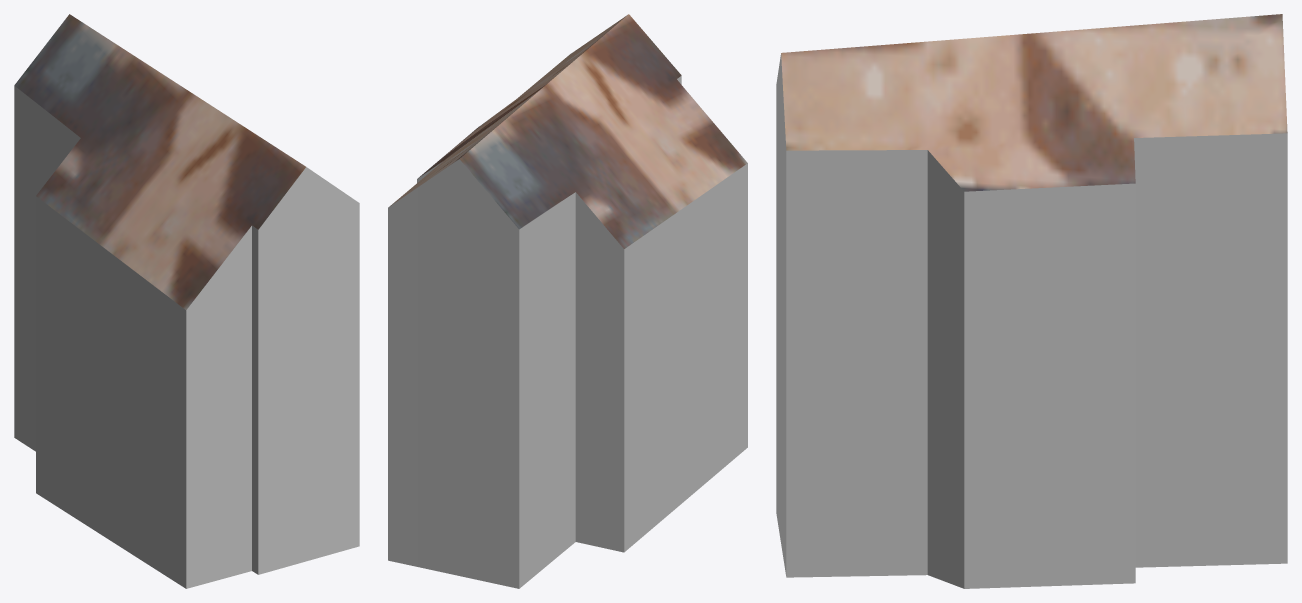
File: DEBW_0010007Tvj9.gltf
3 renders of one model, left to right at view 1: azimuth 30°, elevation 25°; view 2: azimuth 150°, elevation 25°; view 3: azimuth 270°, elevation 25°, orthographic. The views are drawn at different scales.
Parts seen in each view (by area): view 1: Z_UP; view 2: Z_UP; view 3: Z_UP.
Part boxes in pixels (bbox=[...]): Z_UP: bbox=[14, 14, 359, 588]; Z_UP: bbox=[388, 14, 747, 588]; Z_UP: bbox=[776, 14, 1287, 588].
Size of the model in its own units: 11.07 by 20.86 by 19.01.
2 materials, 1 textured.
